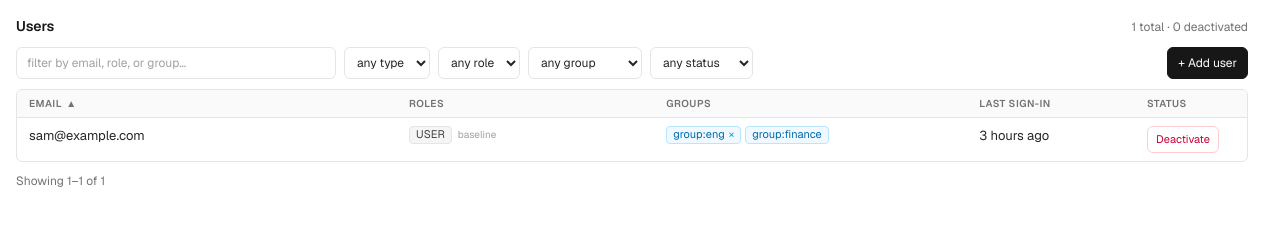
UsersManager › removes a group only where the caller manages it
What coordinates should you click on to do the following:
click the button named "remove sam@example.com from eng"
I would click on:
 (731, 135)
Its box is [729,127,734,143].
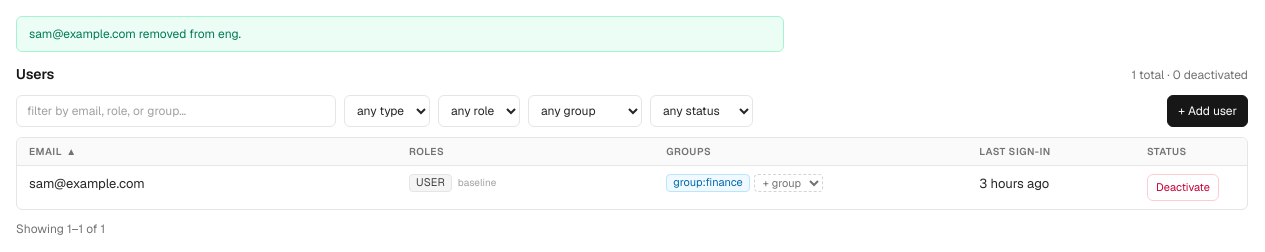
Result: the text "group:eng" is gone
